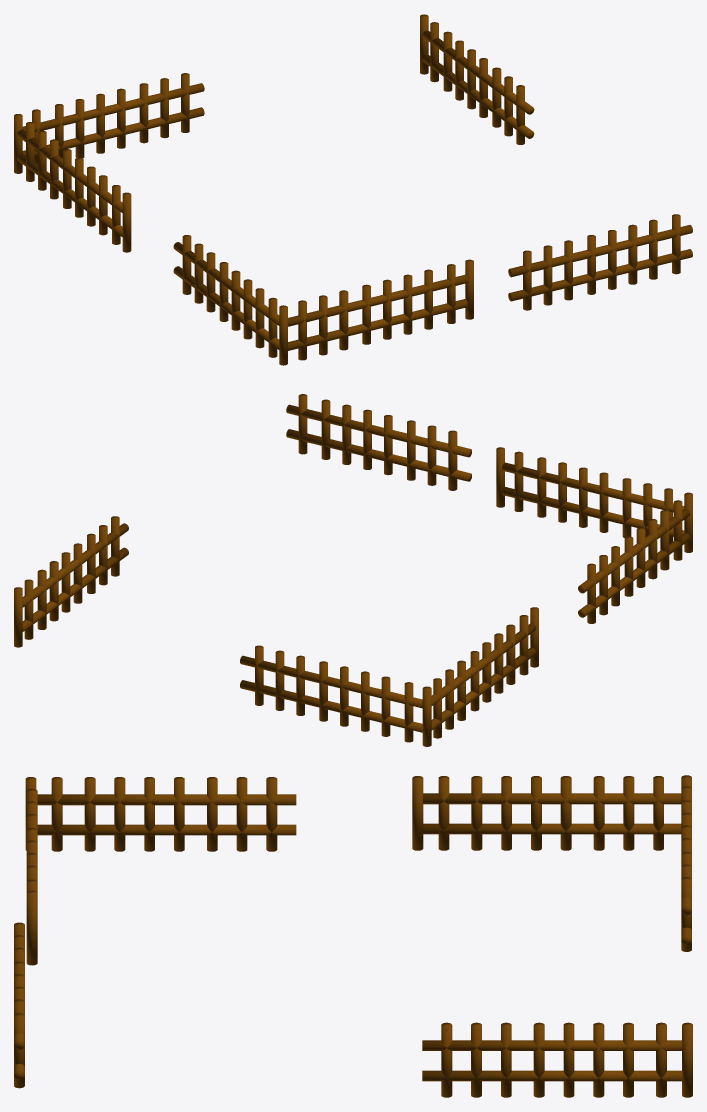
Rendered from CERCA DO JOGO.fbx.
3 renders of one model, top to bottom at view 1: azimuth 30°, elevation 25°; view 2: azimuth 150°, elevation 25°; view 3: azimuth 270°, elevation 25°, orthographic. The views are drawn at different scales.
Visible parts, largest first — view 1: Cylinder.001, Cylinder.009, Cylinder.032, Cylinder.016, Cylinder.020; view 2: Cylinder.009, Cylinder.001, Cylinder.032, Cylinder.016, Cylinder.020; view 3: Cylinder.009, Cylinder.001, Cylinder.032, Cylinder.023.
Boxes of the visible parts, x1,y1,x2,y2 form: Cylinder.001: [173, 235, 473, 365]; Cylinder.009: [14, 73, 204, 252]; Cylinder.032: [420, 14, 534, 144]; Cylinder.016: [508, 249, 692, 301]; Cylinder.020: [508, 225, 692, 277]; Cylinder.009: [240, 607, 538, 746]; Cylinder.001: [496, 447, 692, 623]; Cylinder.032: [14, 516, 128, 647]; Cylinder.016: [286, 429, 471, 481]; Cylinder.020: [286, 404, 471, 457]; Cylinder.009: [412, 775, 691, 951]; Cylinder.001: [25, 777, 296, 965]; Cylinder.032: [422, 1022, 692, 1097]; Cylinder.023: [14, 1013, 24, 1088].
Bounding box in the file's own units: 401 × 52.28 × 457.
